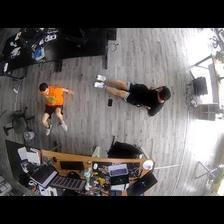fall: (92, 74, 170, 115), (36, 83, 74, 135)
